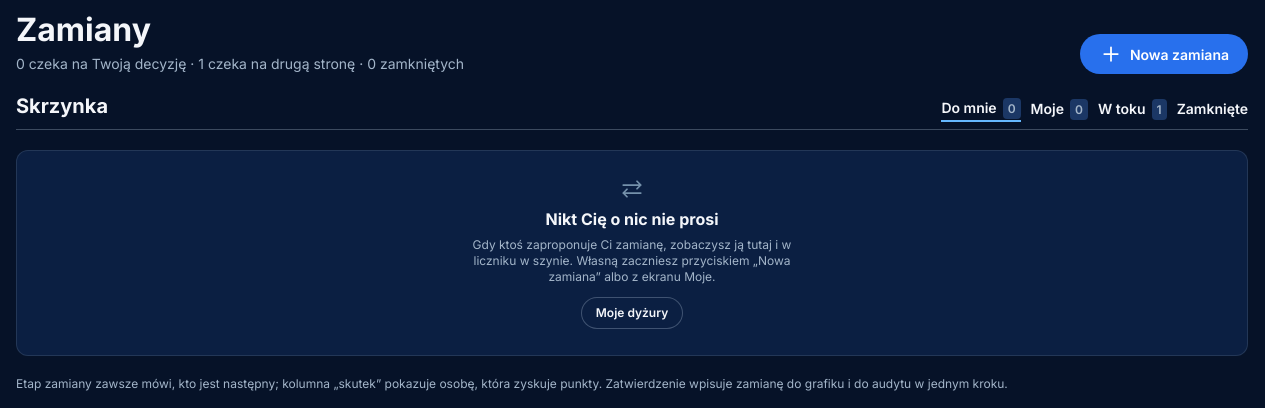
Test case: SwapPanel inbox › files a request waiting for someone else under "W toku", with a preview only
Expected: the text "Nikt Cię o nic nie prosi" is shown, x1=546 y1=207 x2=718 y2=231
Click the button "W toku1" at (1132, 110), box x1=1098 y1=98 x2=1167 y2=122
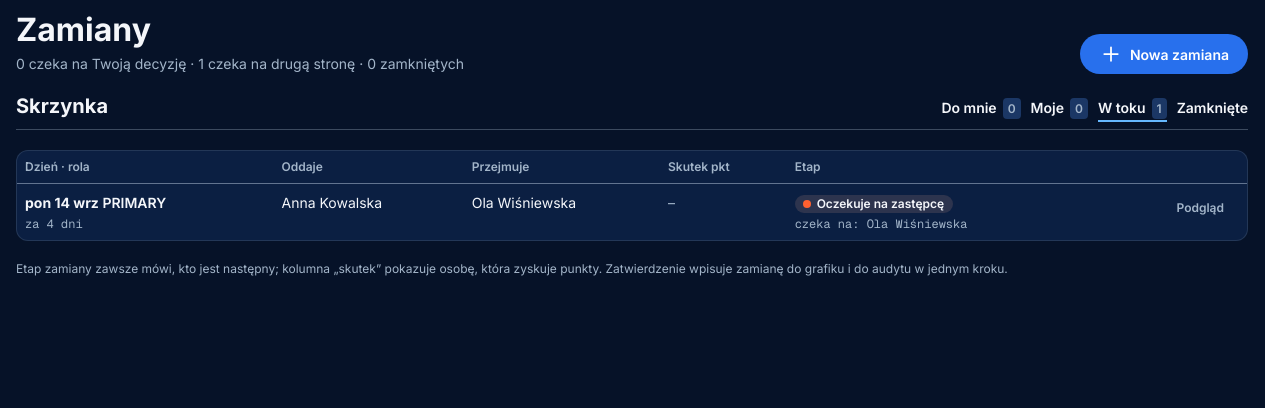
Expected: the cell "Ola Wiśniewska" is shown, x1=464 y1=183 x2=660 y2=240
Expected: the text "czeka na: Ola Wiśniewska" is shown, x1=795 y1=216 x2=967 y2=232
Expected: the button "Podgląd" is shown, x1=1162 y1=192 x2=1239 y2=224
